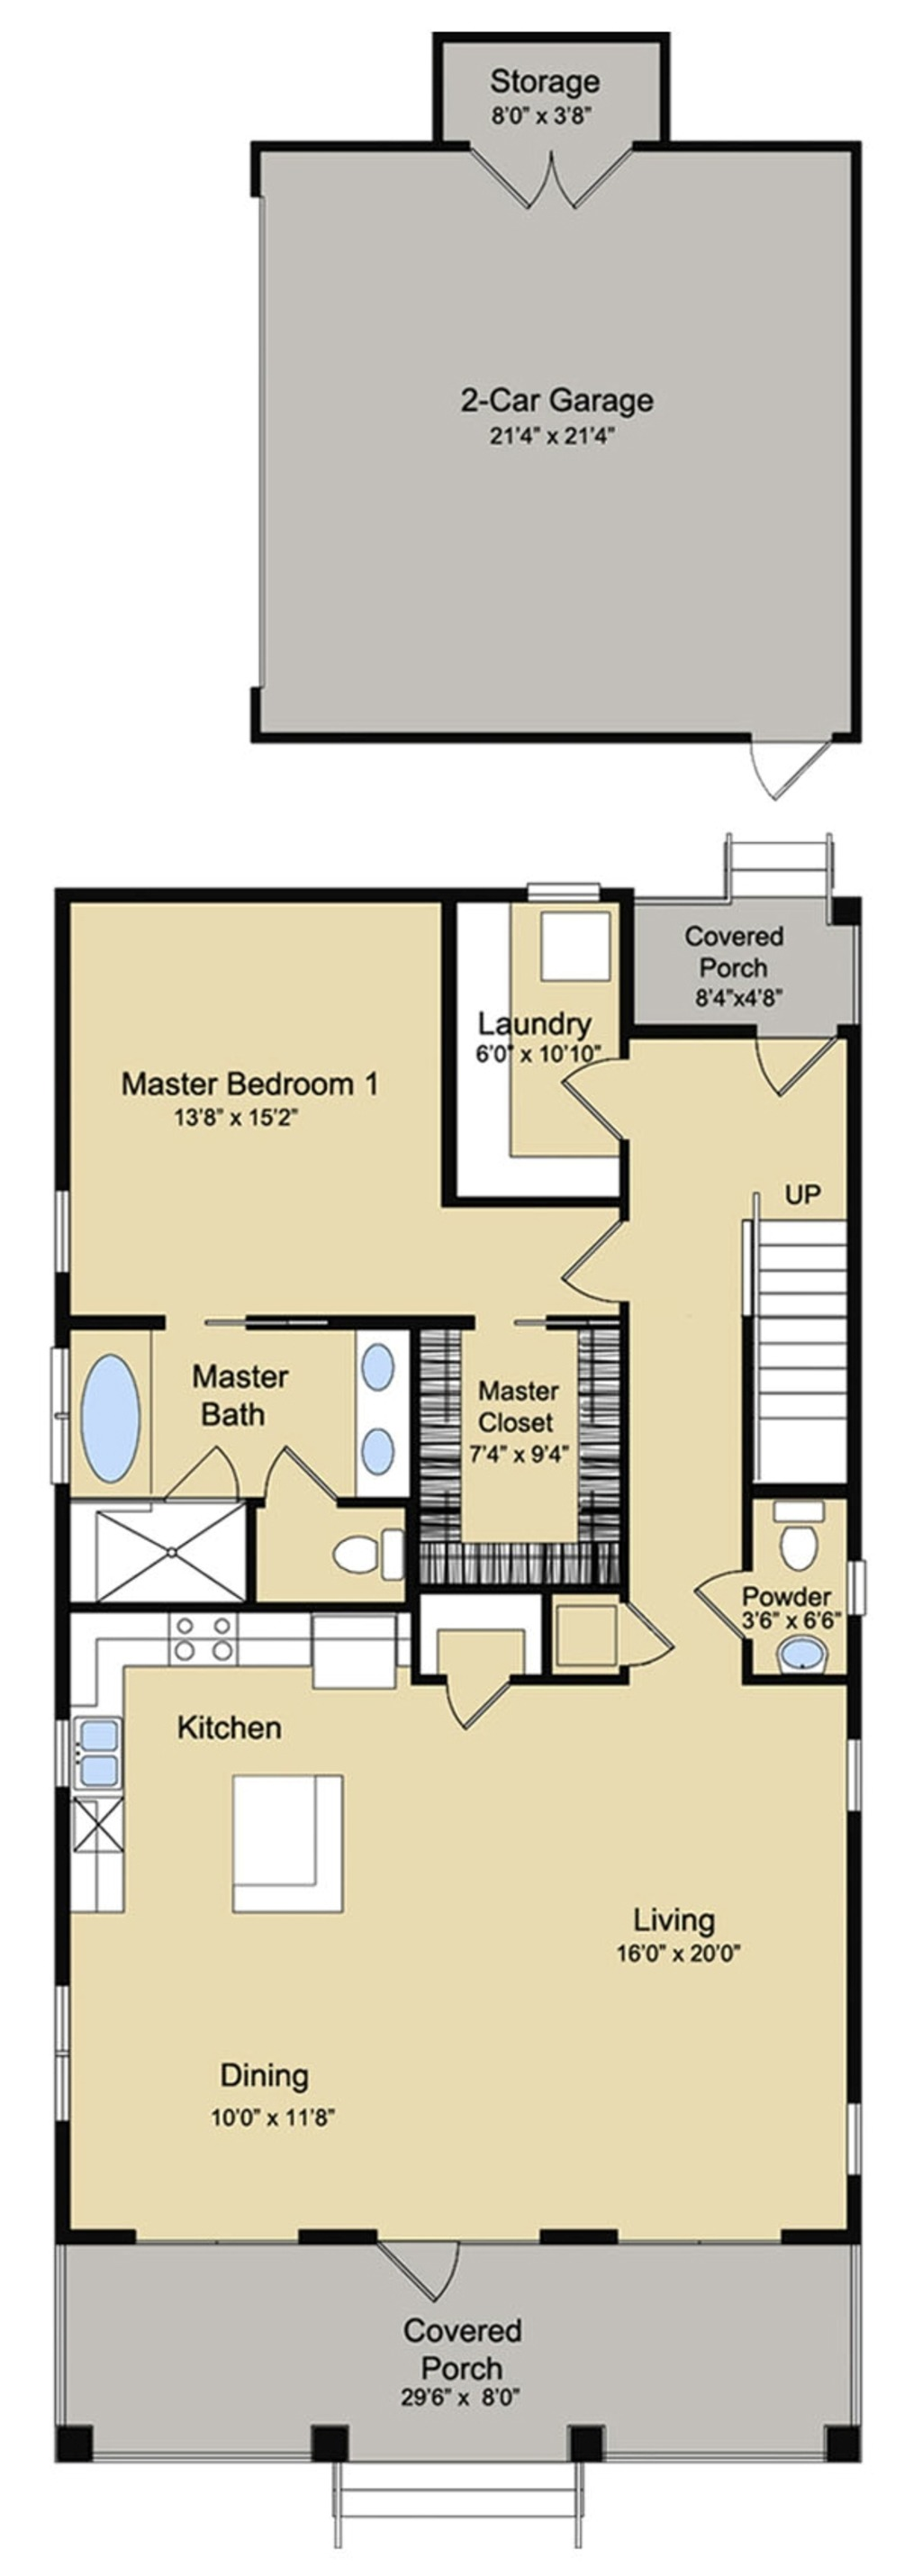door: (465, 130, 631, 217), (557, 1214, 631, 1321), (738, 733, 838, 805), (370, 2234, 478, 2300), (565, 1050, 631, 1157), (754, 1025, 838, 1099), (432, 1667, 524, 1732), (602, 1597, 669, 1669)
large_sink: (756, 1495, 850, 1577)
stairs: (751, 1181, 864, 1490)
tub: (64, 1331, 143, 1490)
windows: (44, 1967, 85, 2129)
